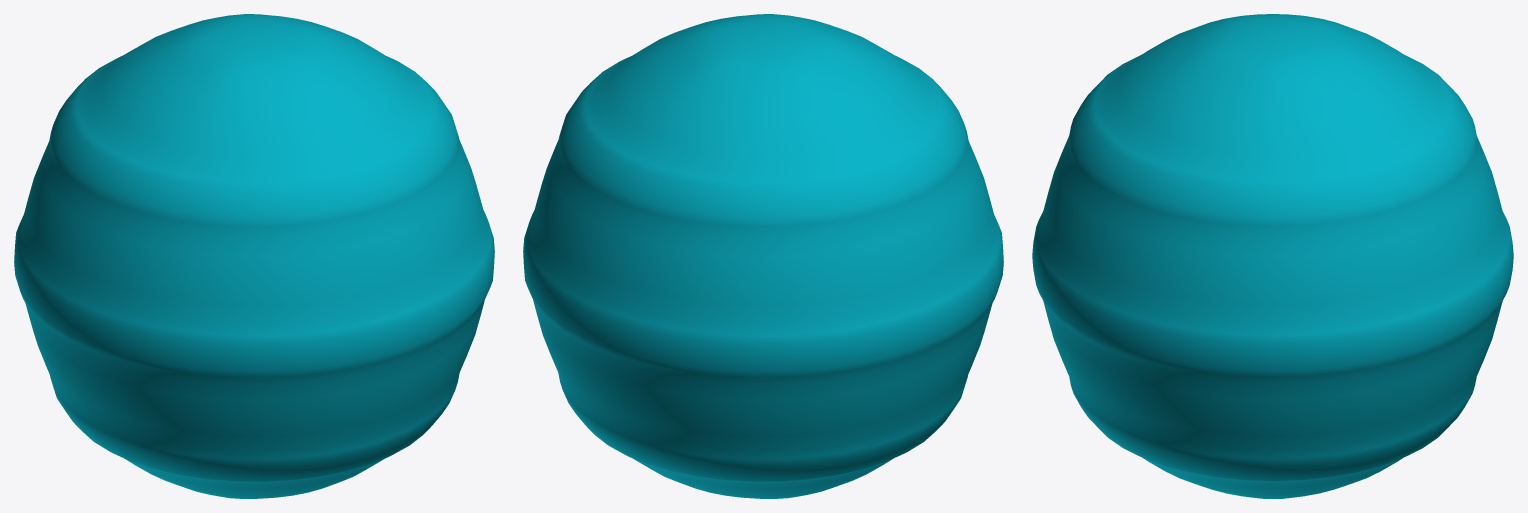
The model's file is Public_18_Fitness_Ball_1.glb.
3 views of the same model, side by side, from view 1: azimuth 30°, elevation 25°; view 2: azimuth 150°, elevation 25°; view 3: azimuth 270°, elevation 25° (orthographic).
Visible parts, largest first — view 1: Public_18_Fitness_Ball_1; view 2: Public_18_Fitness_Ball_1; view 3: Public_18_Fitness_Ball_1.
Part boxes in pixels (x1,y1,x2,y2): Public_18_Fitness_Ball_1: (14, 14, 494, 498); Public_18_Fitness_Ball_1: (523, 14, 1003, 498); Public_18_Fitness_Ball_1: (1032, 14, 1513, 498).
Bounding box in the file's own units: 2.11 × 2.14 × 2.11.
Materials: 1 (1 with a texture image).
